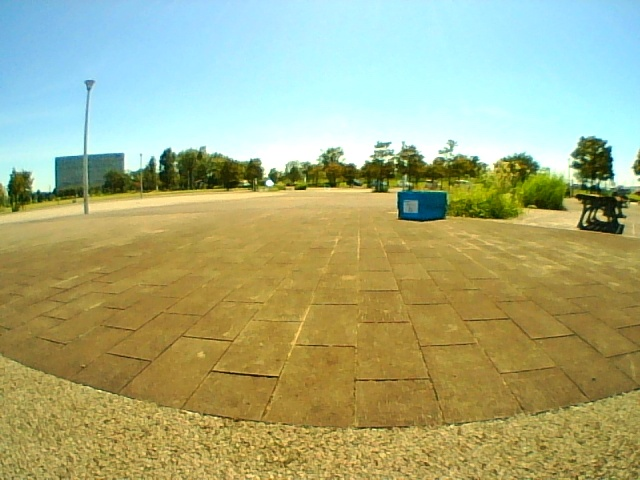blue_box: (398, 191, 446, 220)
tag: (404, 201, 418, 213)
